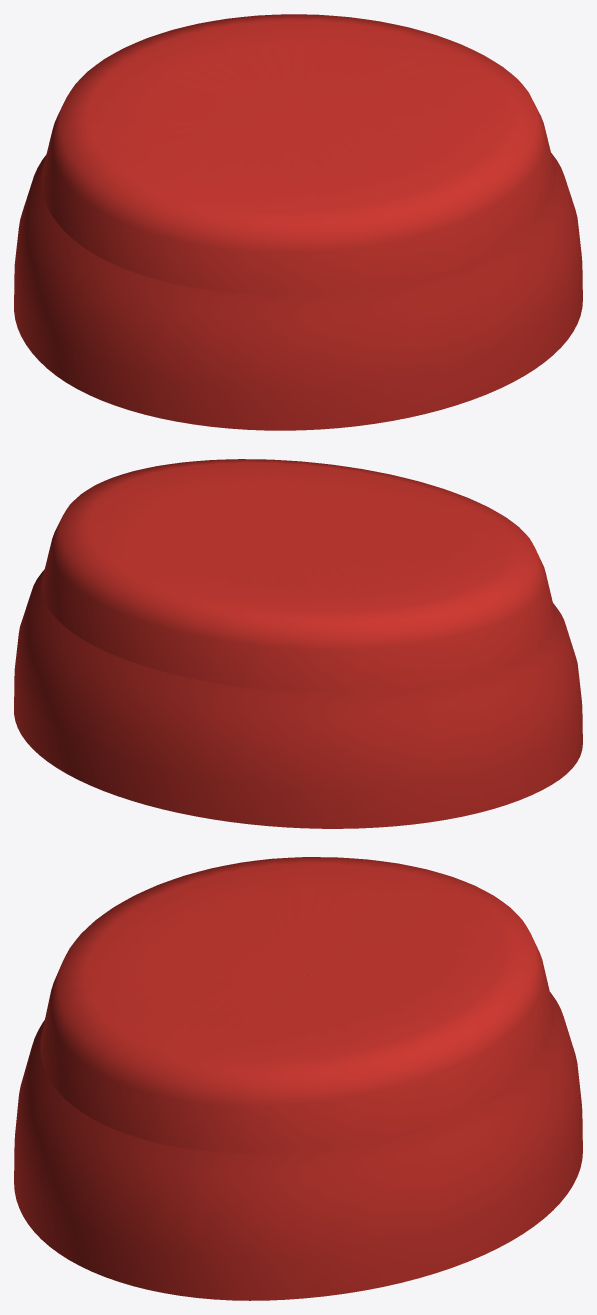
Rendered from hw_fez.glb.
The picture shows the model from 3 angles, top to bottom: view 1: azimuth 30°, elevation 25°; view 2: azimuth 150°, elevation 25°; view 3: azimuth 270°, elevation 25°; orthographic projection. The views are drawn at different scales.
Parts seen in each view (by area): view 1: hw_fez, hw_fez@short; view 2: hw_fez, hw_fez@short; view 3: hw_fez, hw_fez@short.
Boxes of the visible parts, x1=… form: hw_fez: x1=41, y1=14, x2=555, y2=295; hw_fez@short: x1=14, y1=153, x2=582, y2=430; hw_fez: x1=41, y1=459, x2=555, y2=692; hw_fez@short: x1=14, y1=569, x2=582, y2=828; hw_fez: x1=40, y1=857, x2=554, y2=1300; hw_fez@short: x1=14, y1=992, x2=582, y2=1300.
Bounding box in the file's own units: 0.859 × 0.3507 × 0.7758.
